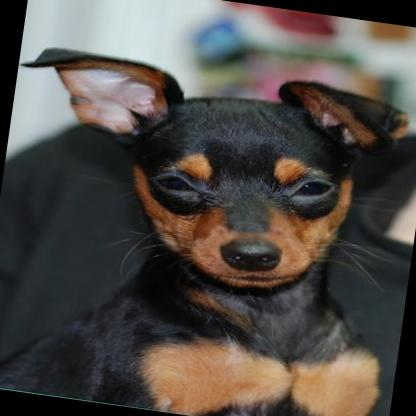miniature_pinscher: (0, 39, 416, 416)
